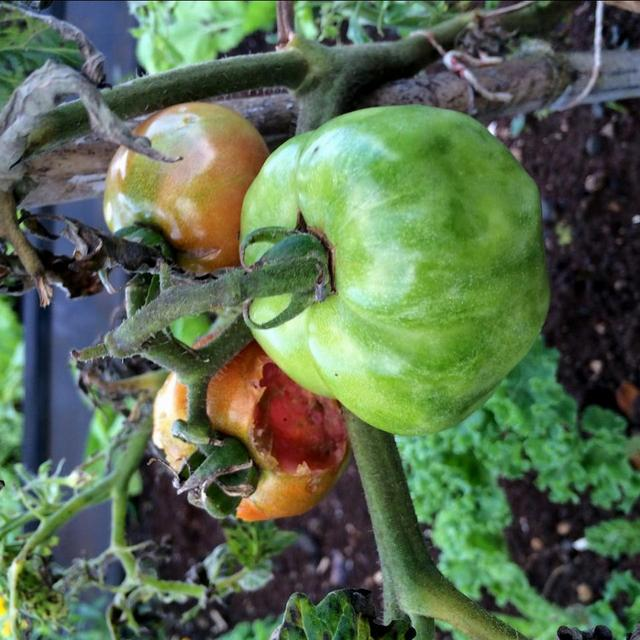Spotted wilt Virus Fruit: (115, 122, 262, 286)
